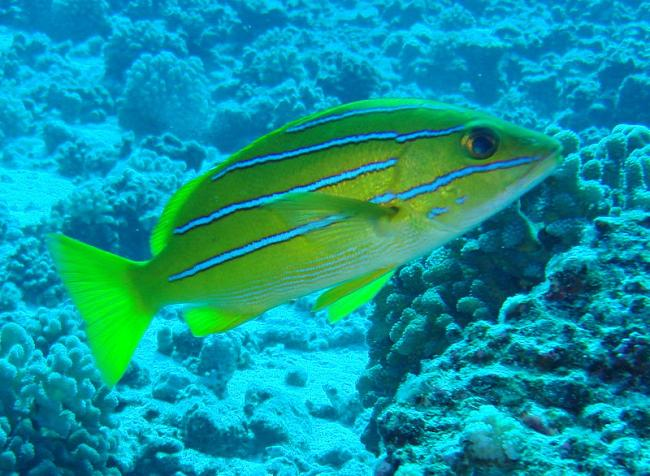fish: (46, 98, 563, 388)
